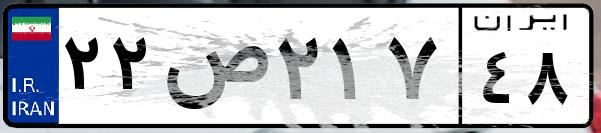1: (330, 28, 385, 110)
2: (270, 28, 330, 110), (57, 26, 110, 100), (110, 28, 158, 98)
4: (475, 38, 525, 113)
7: (385, 28, 445, 110)
8: (525, 38, 570, 115)
ص: (158, 20, 270, 120)
